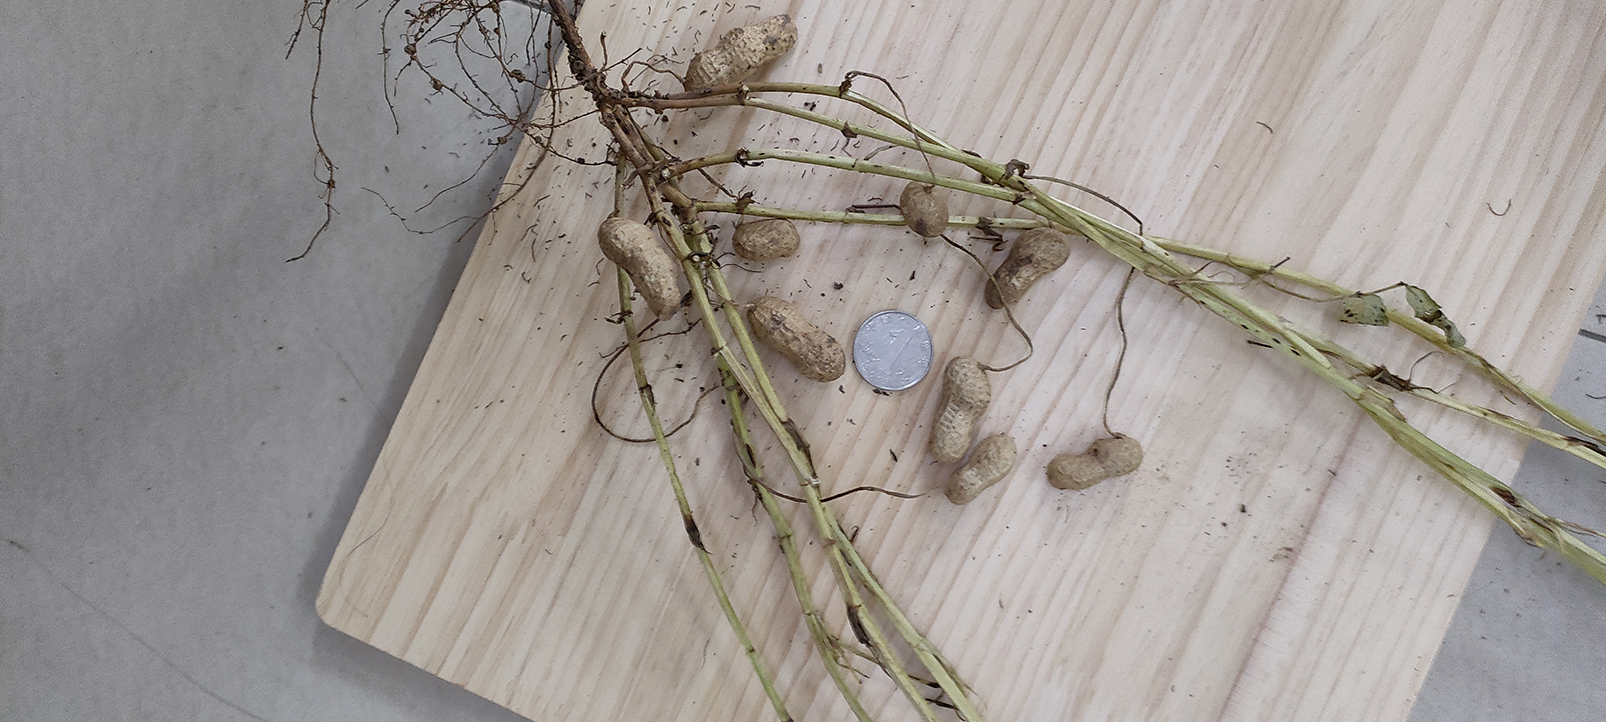h: (683, 14, 798, 94), (598, 217, 681, 318), (750, 298, 845, 381), (929, 357, 992, 466), (943, 432, 1017, 505), (1049, 435, 1146, 489), (898, 182, 950, 238), (733, 218, 800, 259)
l: (984, 227, 1071, 309)
